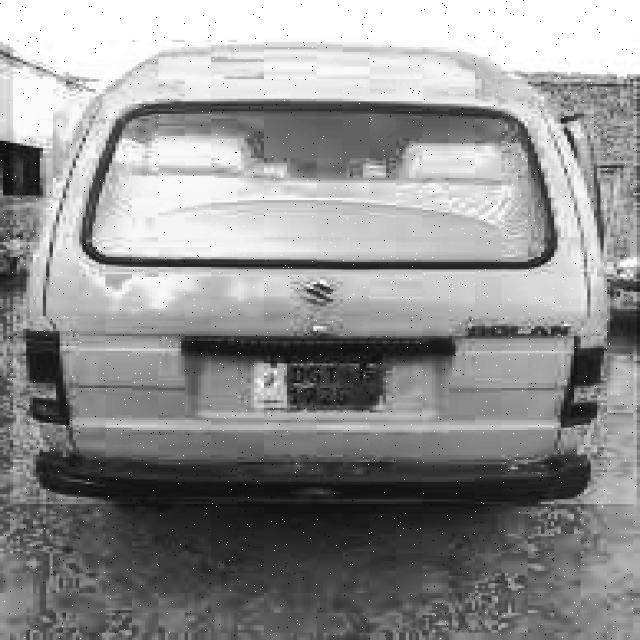LCV: (13, 42, 637, 509)
